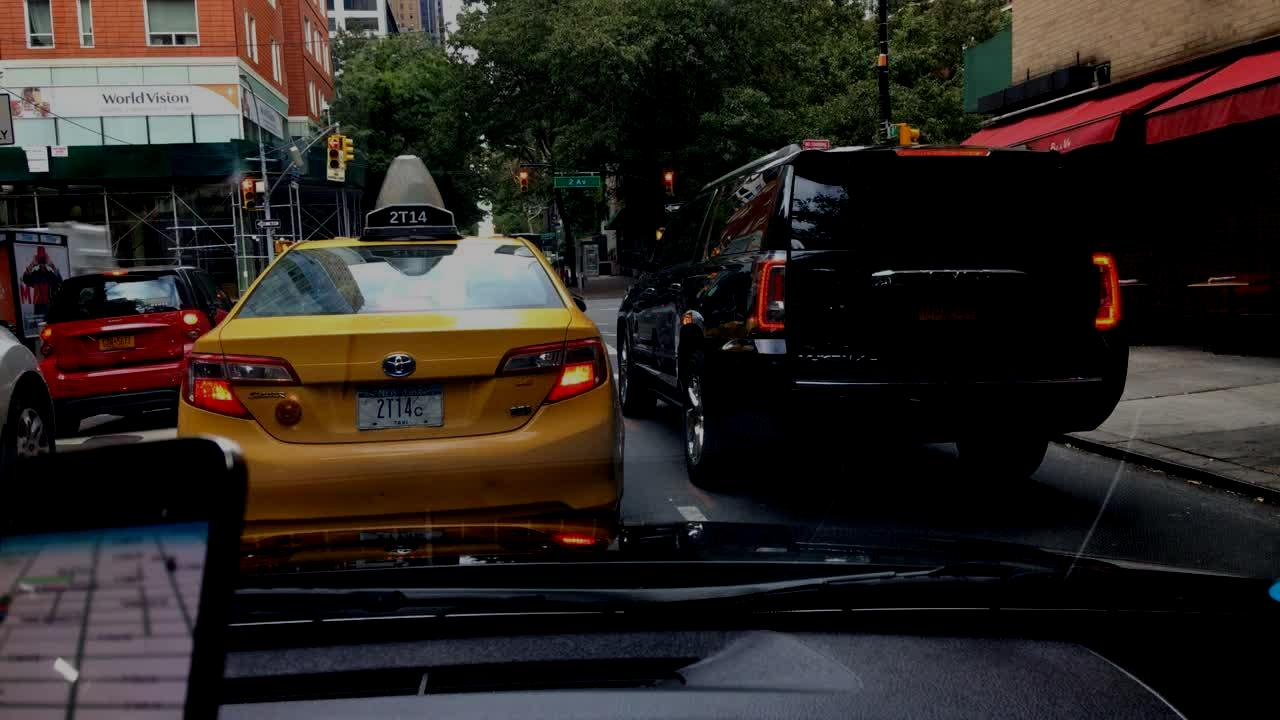GMC: (918, 257, 986, 292)
Toyota: (378, 350, 424, 386)
